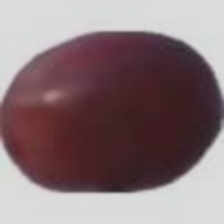grapes: (28, 44, 174, 197)
